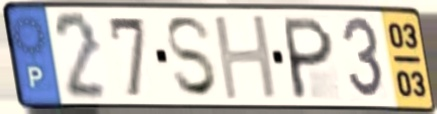2: (52, 8, 114, 105)
3: (338, 13, 387, 104)
7: (105, 14, 151, 100)
H: (210, 11, 282, 103)
P: (283, 14, 336, 103)
S: (163, 14, 222, 101)
